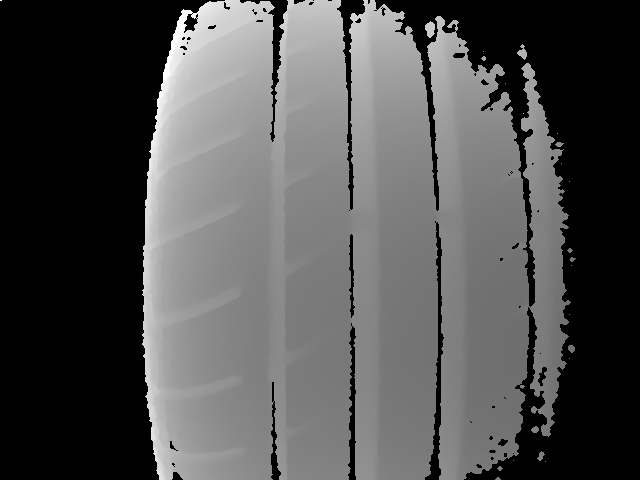high: (383, 230, 403, 249)
low: (357, 229, 376, 247)
